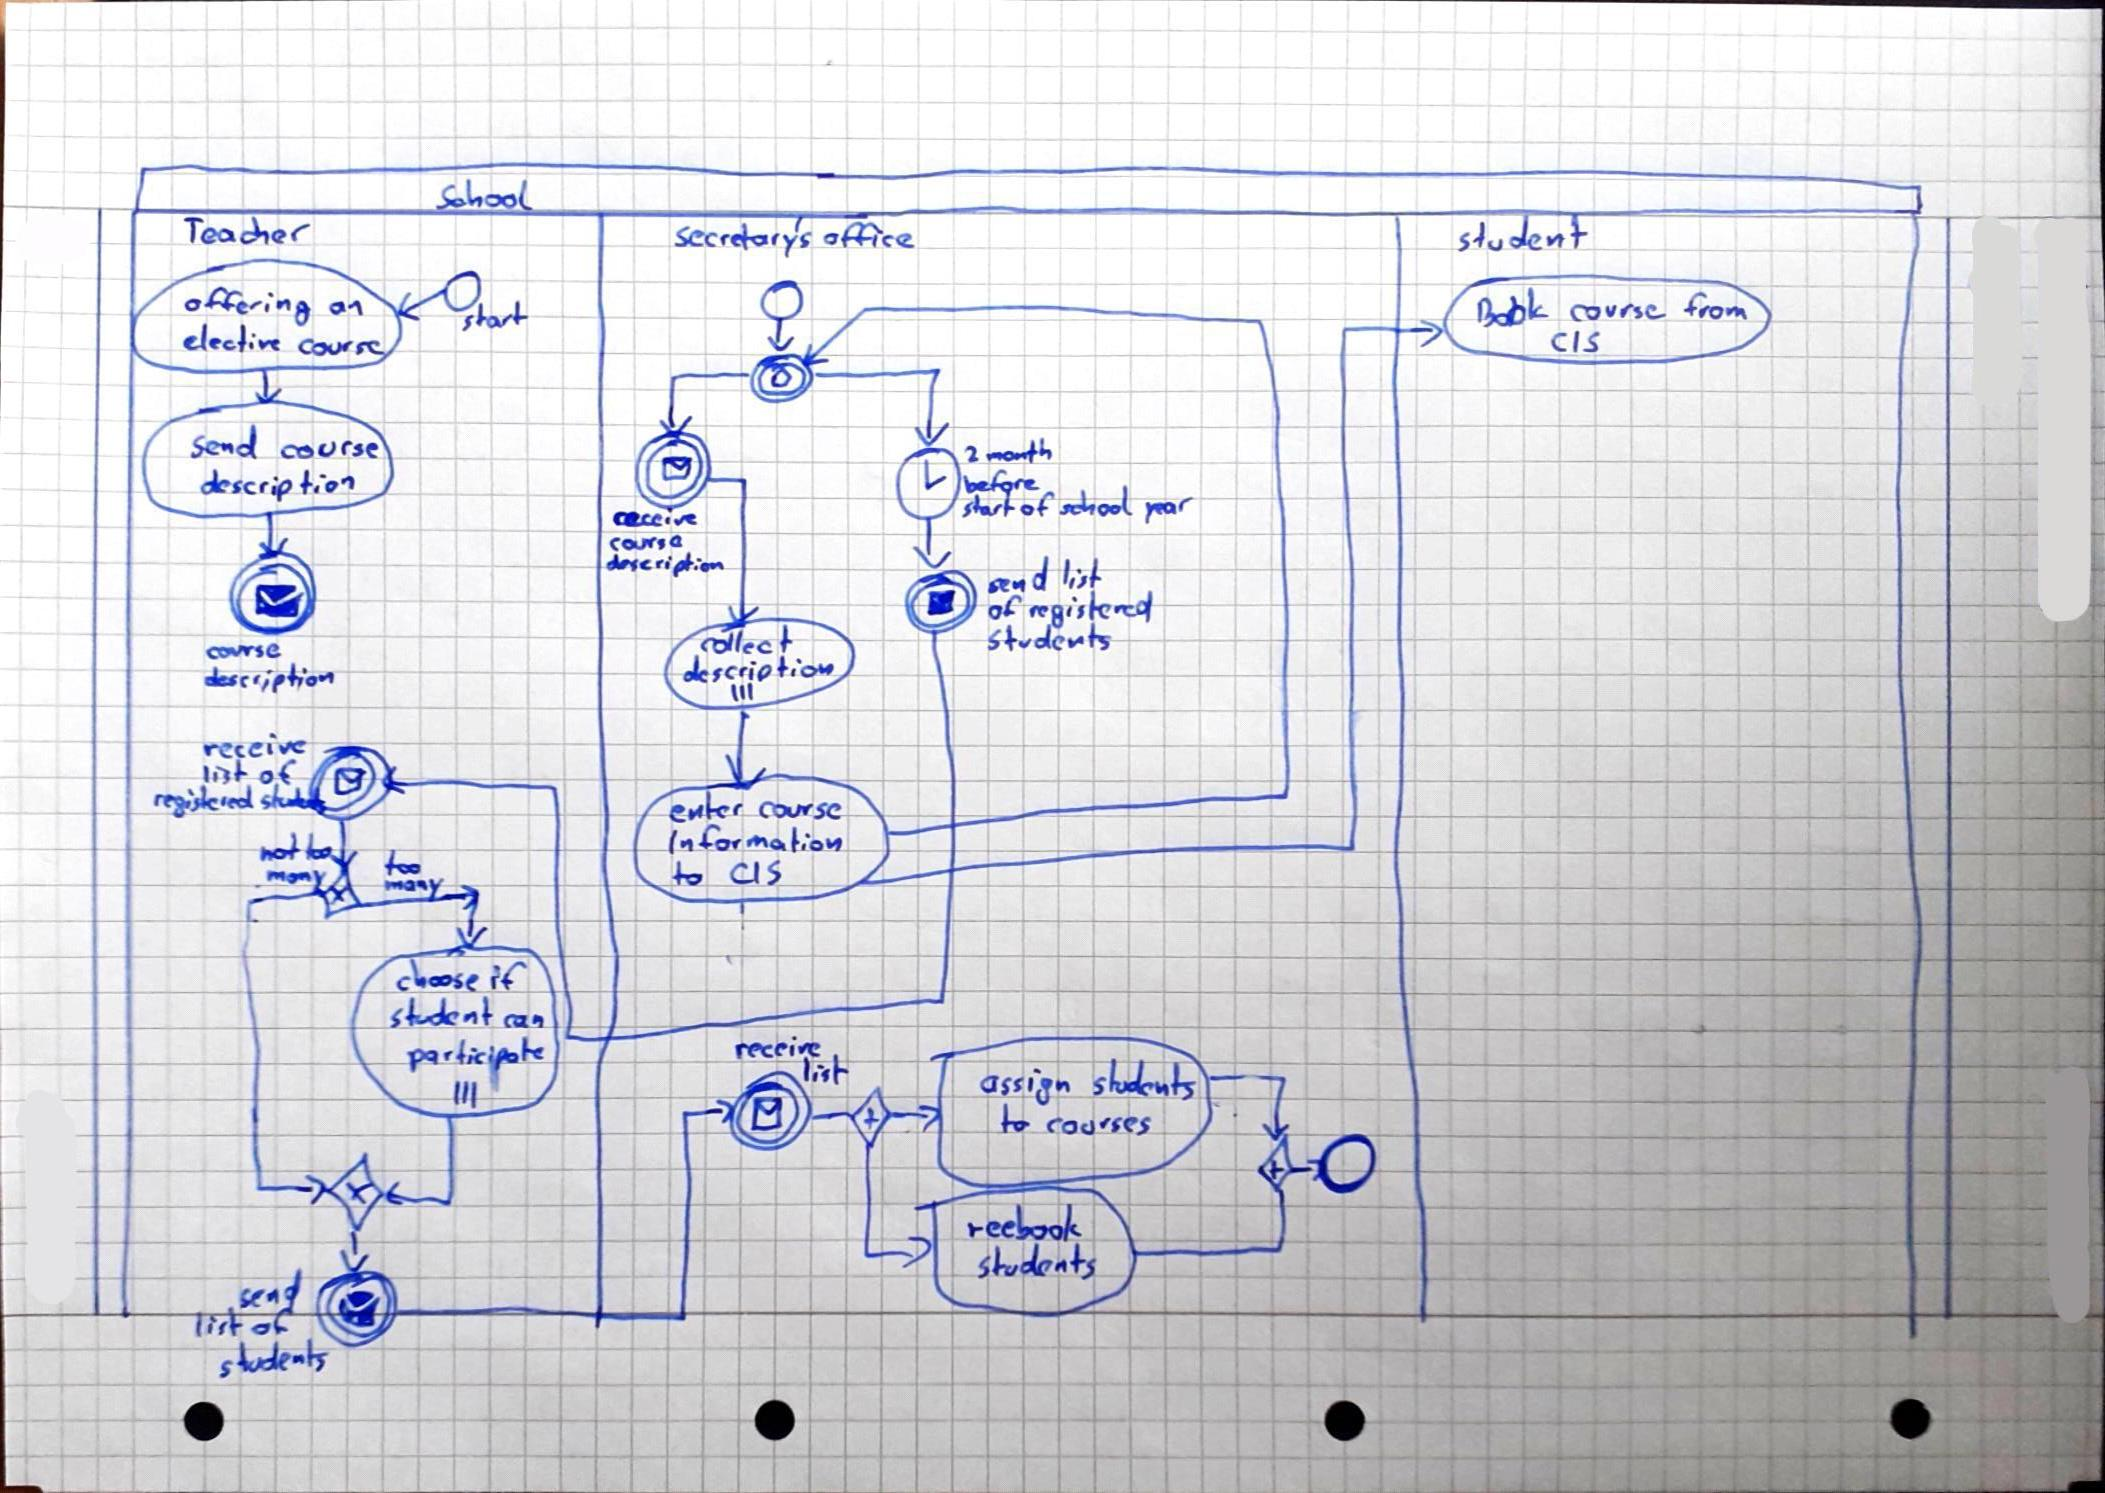2: (963, 437, 983, 467)
Book: (1473, 287, 1548, 326)
CIS: (1548, 328, 1606, 356), (731, 859, 782, 889)
III: (448, 1076, 481, 1113), (727, 682, 761, 707)
Information: (664, 826, 845, 858)
School: (435, 177, 532, 214)
Teacher: (182, 216, 312, 251)
assign: (979, 1066, 1073, 1103)
be: (302, 831, 335, 859)
before: (961, 468, 1039, 497)
can: (498, 1008, 546, 1036)
choose: (394, 962, 478, 999)
collect: (697, 630, 799, 660)
course: (1561, 295, 1666, 324), (273, 437, 380, 464), (757, 792, 848, 824), (296, 335, 383, 359), (610, 529, 683, 553), (207, 641, 289, 663)
courses: (1044, 1110, 1158, 1142)
description: (202, 465, 359, 503), (684, 658, 836, 687), (203, 665, 341, 694), (609, 555, 723, 578)
elective: (178, 325, 282, 351)
enter: (666, 795, 748, 823)
from: (1683, 289, 1751, 322)
if: (483, 960, 529, 996)
list: (1057, 556, 1108, 595), (797, 1057, 851, 1091), (193, 1311, 246, 1340), (197, 762, 256, 789)
many: (382, 876, 447, 900), (261, 863, 328, 887)
month: (987, 436, 1054, 468)
not: (256, 835, 300, 867)
of: (251, 1309, 293, 1340), (258, 759, 301, 789), (987, 594, 1018, 625), (1021, 493, 1052, 524)
offering: (182, 285, 312, 325)
office: (821, 220, 918, 257)
on: (328, 293, 366, 320)
participate: (406, 1036, 549, 1076)
receive: (202, 734, 310, 764), (731, 1037, 820, 1061), (614, 509, 699, 529)
reebook: (963, 1203, 1085, 1246)
registered: (1022, 592, 1158, 625), (151, 787, 251, 818)
school: (1056, 487, 1137, 524)
secretary's: (669, 220, 817, 257)
send: (187, 423, 263, 464), (986, 558, 1055, 594), (240, 1269, 305, 1307)
start: (460, 301, 530, 333), (957, 492, 1013, 521)
student: (1452, 218, 1588, 254), (388, 994, 495, 1031)
students: (217, 1340, 328, 1383), (1089, 1058, 1200, 1101), (974, 1245, 1098, 1280), (985, 625, 1116, 655), (262, 782, 330, 815)
to: (664, 860, 712, 891), (996, 1105, 1031, 1138)
too: (379, 852, 425, 874)
year: (1139, 490, 1196, 527)
